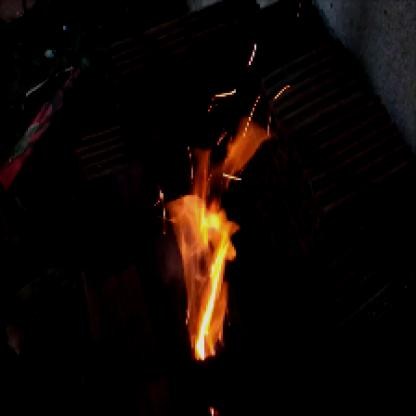Fire: (160, 95, 273, 364)
